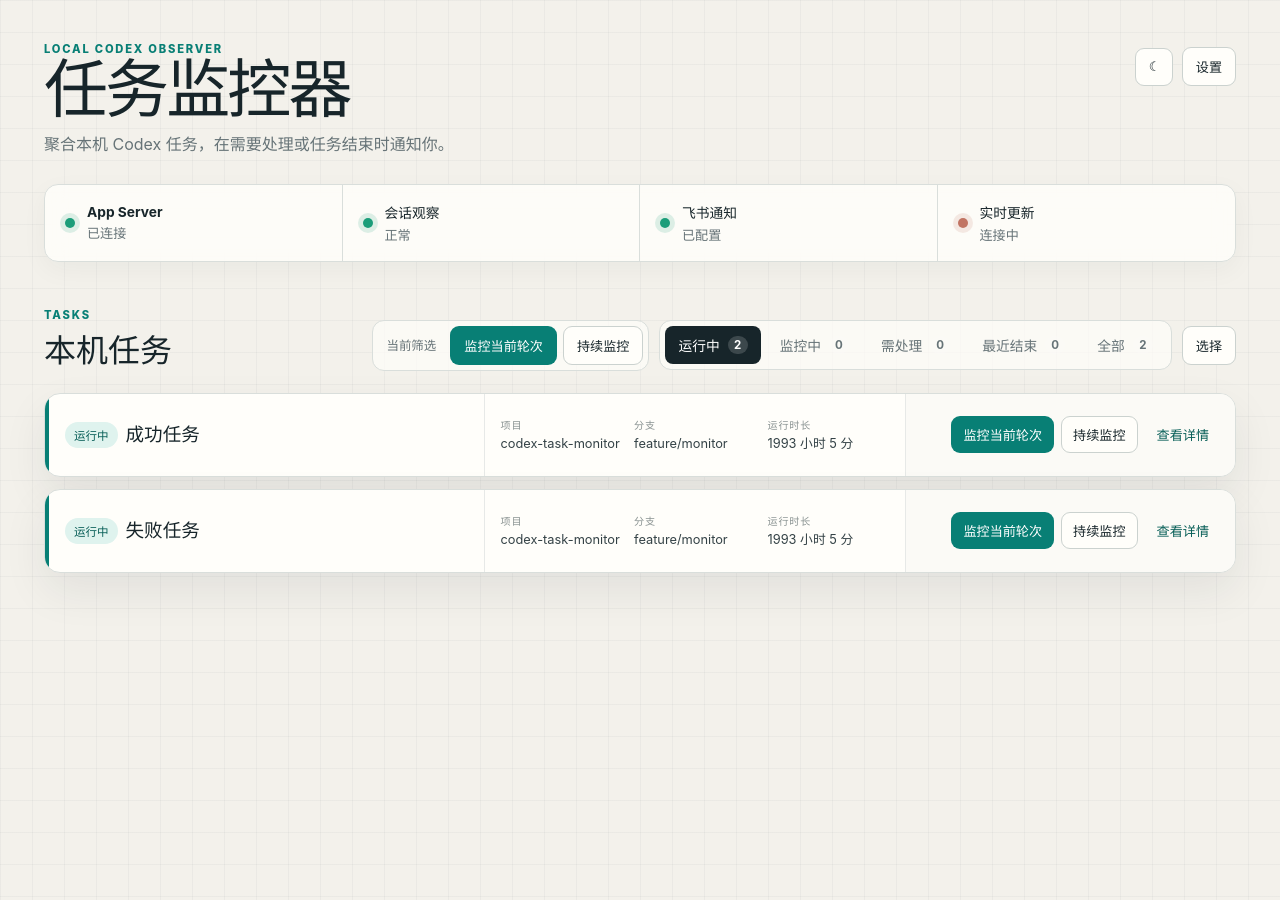
Test: 任务监控主页面 › 当前筛选批量监控部分失败时保留成功结果并提示
This screenshot has width=1280, height=900.
Click the button "监控当前轮次" next to "当前筛选": (504, 345) [450,326,557,365]
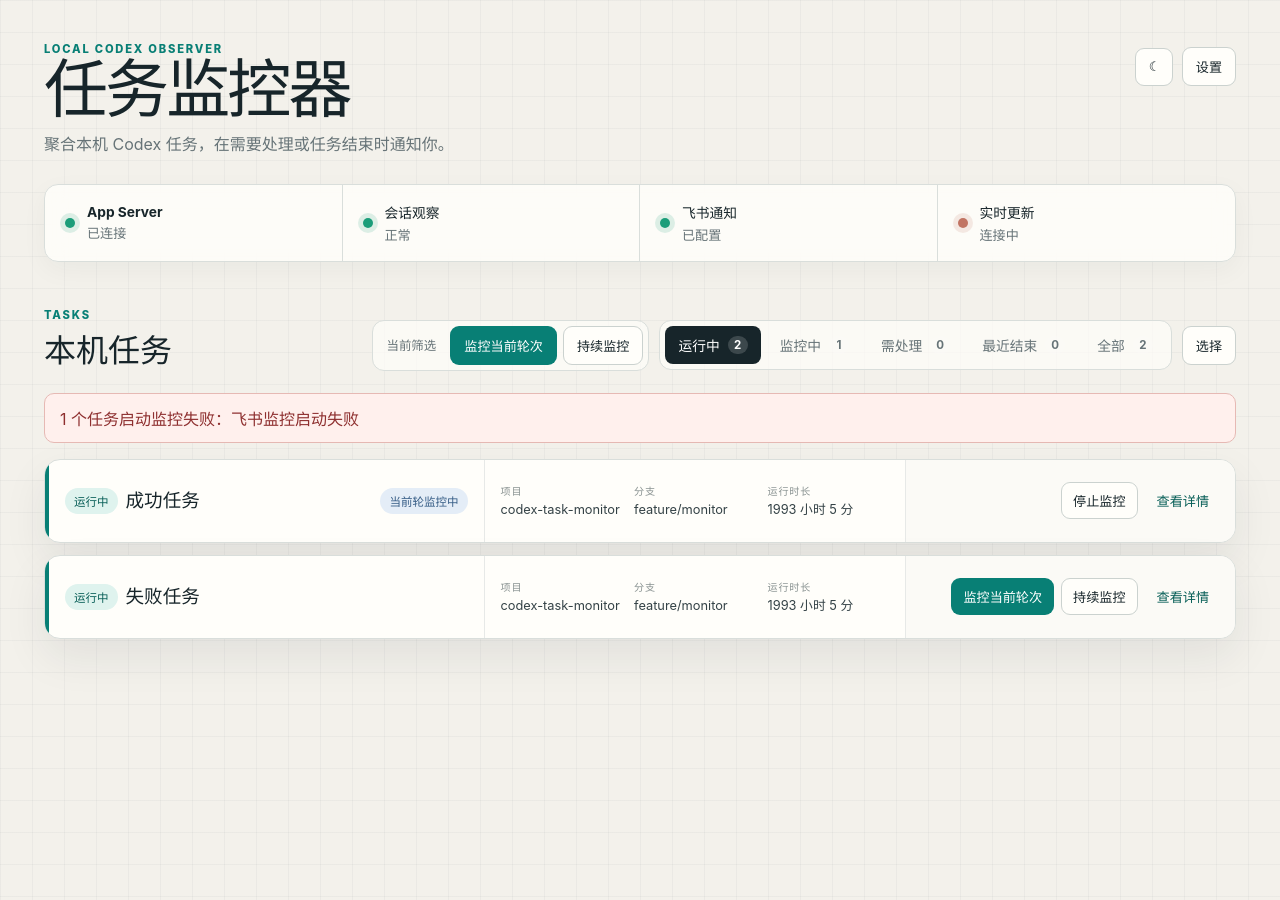
expect the number of elements with class "watch-badge" is 1: met, box [380,488,468,514]
expect the message "1 个任务启动监控失败：飞书监控启动失败" is shown: met, box [44,393,1236,443]
